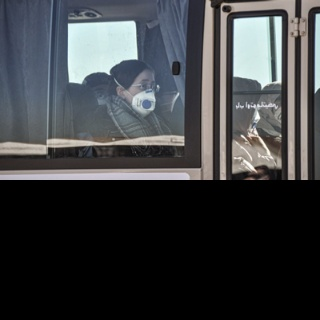with_mask: (128, 77, 157, 119)
